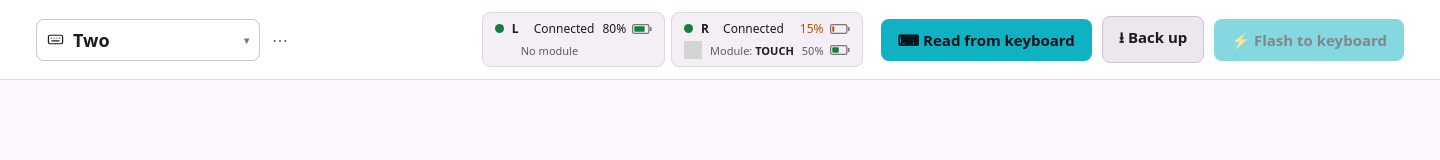
Test case: ProfileBar › shows the active profile, both halves, and reads the keyboard into the profile it produced
Expected: the text "Two" is shown, [73, 28, 110, 52]
Expected: the text "L" is shown, [512, 20, 518, 37]
Click the button "⌨ Read from keyboard".
click(986, 40)  # box [880, 18, 1092, 60]
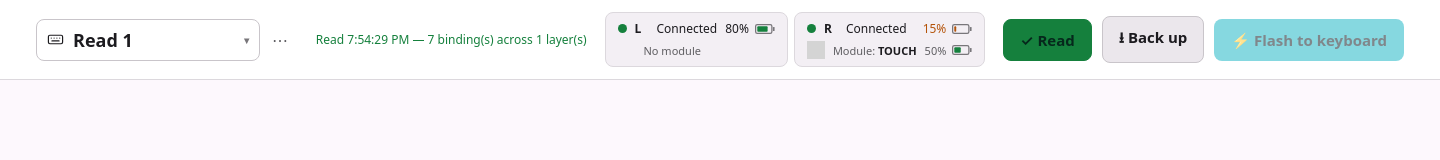
Expected: the text "Read 1" is shown, [73, 28, 133, 52]
Expected: the text "Read 7:54:29 PM — 7 binding(s) across 1 layer(s)" is shown, [316, 31, 586, 48]
